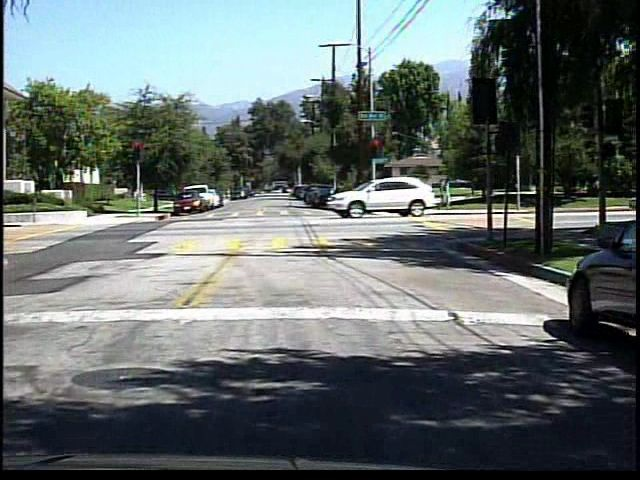person: (436, 172, 455, 214)
